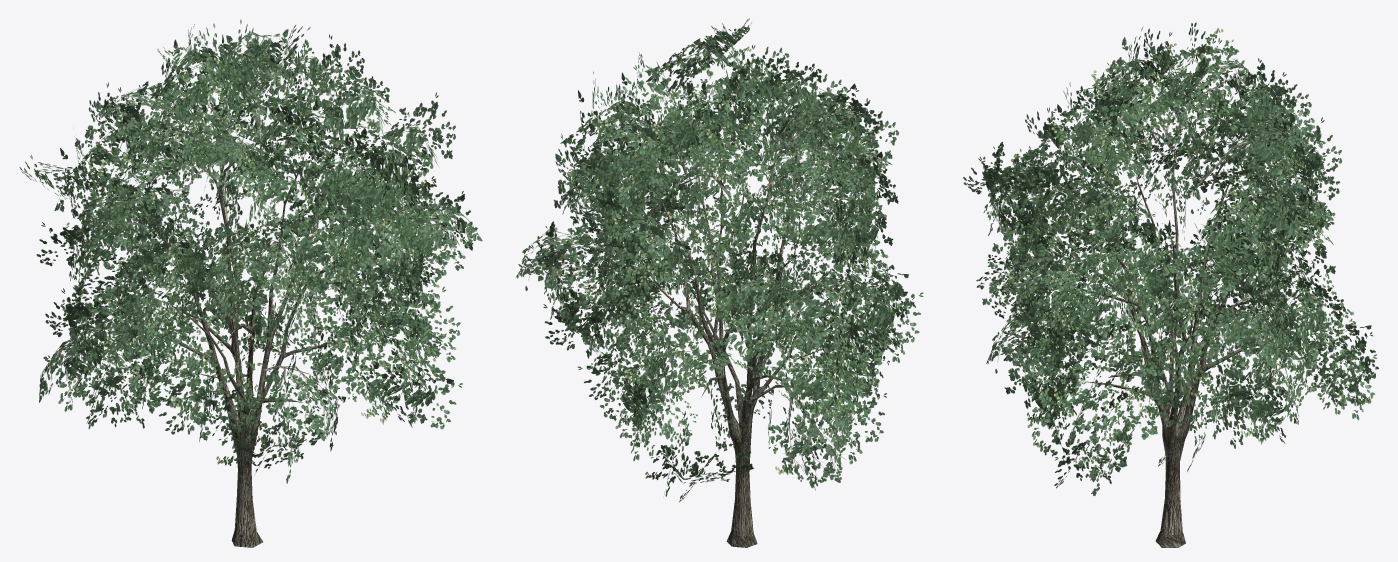
The model's file is tree1.3effc147.glb.
3 renders of one model, left to right at view 1: azimuth 30°, elevation 25°; view 2: azimuth 150°, elevation 25°; view 3: azimuth 270°, elevation 25°, orthographic.
Visible parts, largest first — view 1: 树叶1, 树干1; view 2: 树叶1, 树干1; view 3: 树叶1, 树干1.
Part boxes in pixels (x1,y1,x2,y2): 树叶1: (19,19,482,483); 树干1: (106,152,366,547); 树叶1: (515,18,923,502); 树干1: (624,138,854,547); 树叶1: (963,22,1378,495); 树干1: (1058,144,1299,547).
Size of the model in its own units: 16.11 by 22.2 by 16.91.
2 materials, 2 textured.
